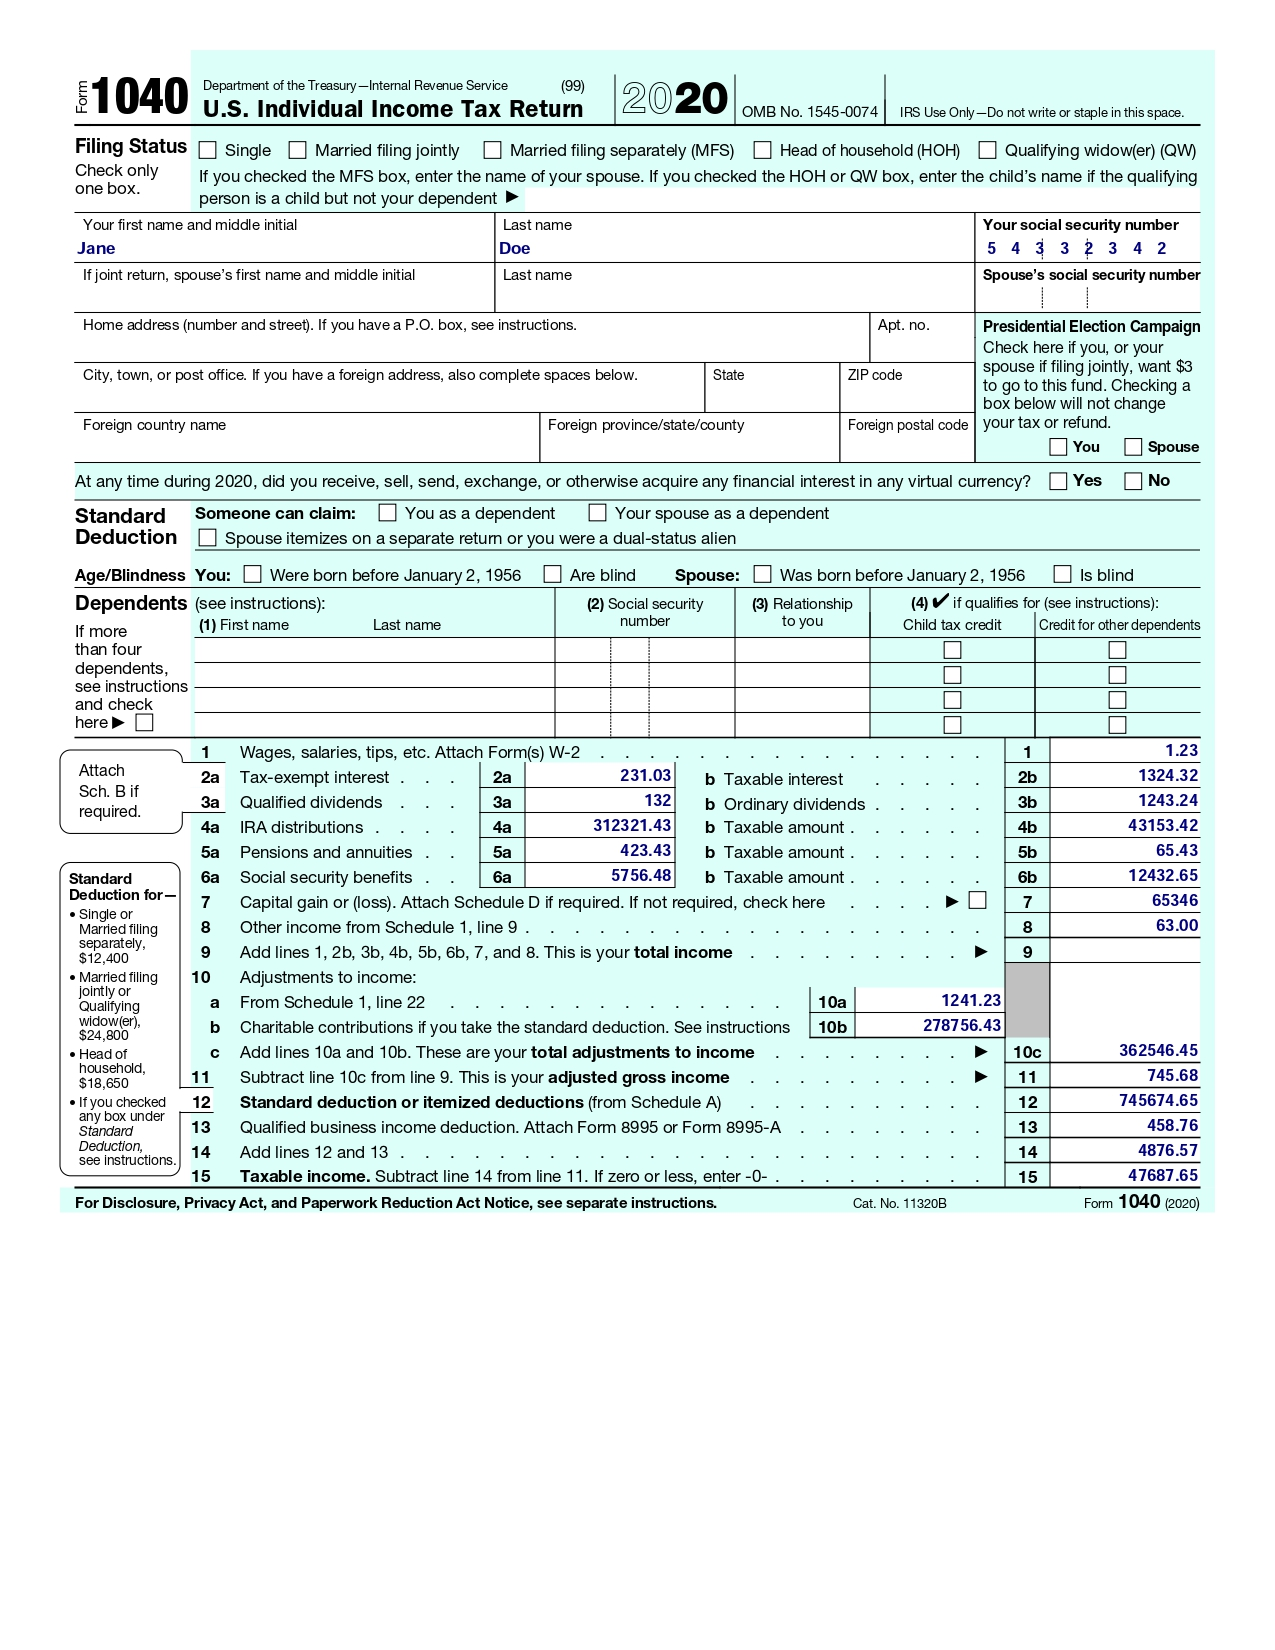form: (64, 130, 1220, 496)
table: (192, 741, 1217, 1192), (75, 591, 1224, 738)
